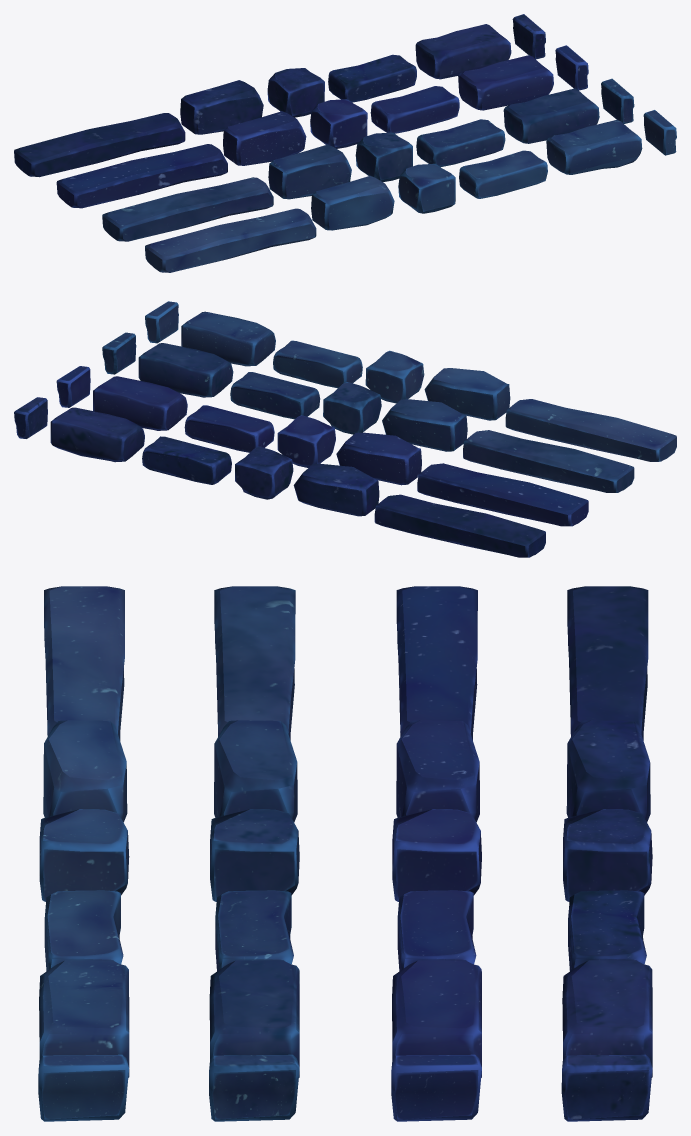
File: msh_stone.fbx
3 views of the same model, one above another, from view 1: azimuth 30°, elevation 25°; view 2: azimuth 150°, elevation 25°; view 3: azimuth 270°, elevation 25° (orthographic). The views are drawn at different scales.
Visible parts, largest first — view 1: Box001, Box007, Box019, Box013, Box005, Box017, Box023, Box011, Box002, Box014, Box008, Box020 (+12 smaller); view 2: Box013, Box019, Box007, Box001, Box023, Box011, Box005, Box017, Box020, Box008, Box002, Box014 (+12 smaller); view 3: Box019, Box007, Box013, Box001, Box005, Box023, Box011, Box017, Box002, Box014, Box020, Box008 (+12 smaller).
Boxes of the visible parts, x1,y1,x2,y2 form: Box001: [145, 208, 316, 272]; Box007: [102, 177, 273, 241]; Box019: [14, 113, 185, 177]; Box013: [56, 144, 227, 208]; Box005: [546, 119, 642, 174]; Box017: [458, 55, 553, 110]; Box023: [415, 24, 511, 79]; Box011: [503, 88, 599, 143]; Box002: [311, 176, 394, 230]; Box014: [223, 111, 306, 165]; Box008: [268, 144, 351, 199]; Box020: [180, 80, 263, 134]; Box013: [417, 463, 588, 526]; Box019: [374, 494, 545, 557]; Box007: [463, 430, 634, 492]; Box001: [505, 399, 676, 461]; Box023: [50, 407, 144, 462]; Box011: [138, 343, 233, 397]; Box005: [181, 311, 275, 366]; Box017: [93, 376, 187, 430]; Box020: [293, 463, 379, 516]; Box008: [382, 399, 467, 451]; Box002: [424, 368, 510, 420]; Box014: [336, 432, 421, 485]; Box019: [567, 586, 648, 740]; Box007: [214, 586, 295, 740]; Box013: [396, 586, 477, 740]; Box001: [44, 586, 124, 740]; Box005: [39, 960, 129, 1077]; Box023: [562, 960, 652, 1077]; Box011: [209, 960, 299, 1077]; Box017: [392, 960, 481, 1077]; Box002: [43, 720, 127, 822]; Box014: [396, 720, 479, 822]; Box020: [566, 720, 650, 822]; Box008: [214, 720, 297, 822].
Size of the model in its own units: 1322 by 93.54 by 685.
